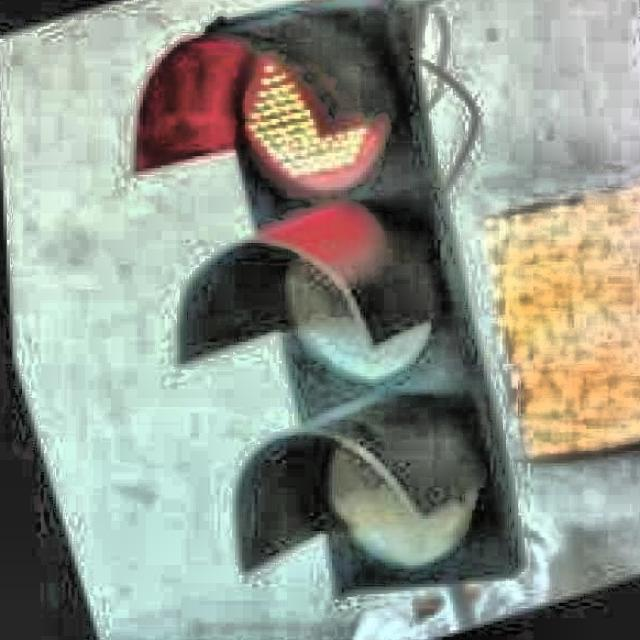red: (189, 20, 519, 578)
